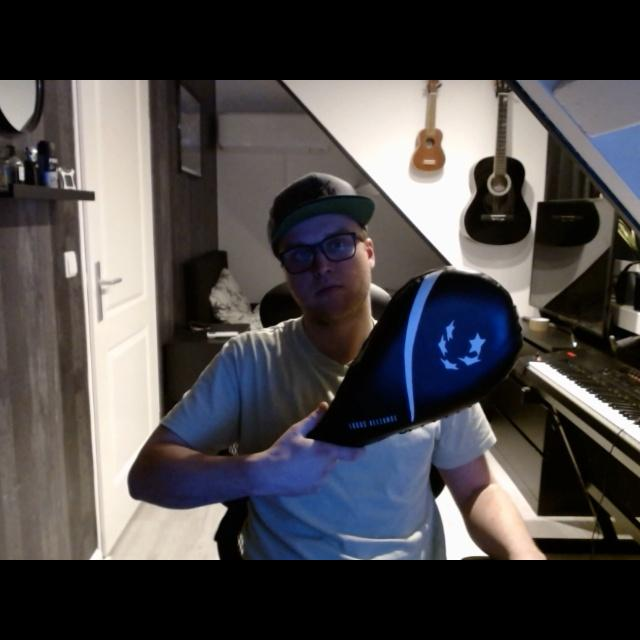paddle: (310, 263, 522, 454)
